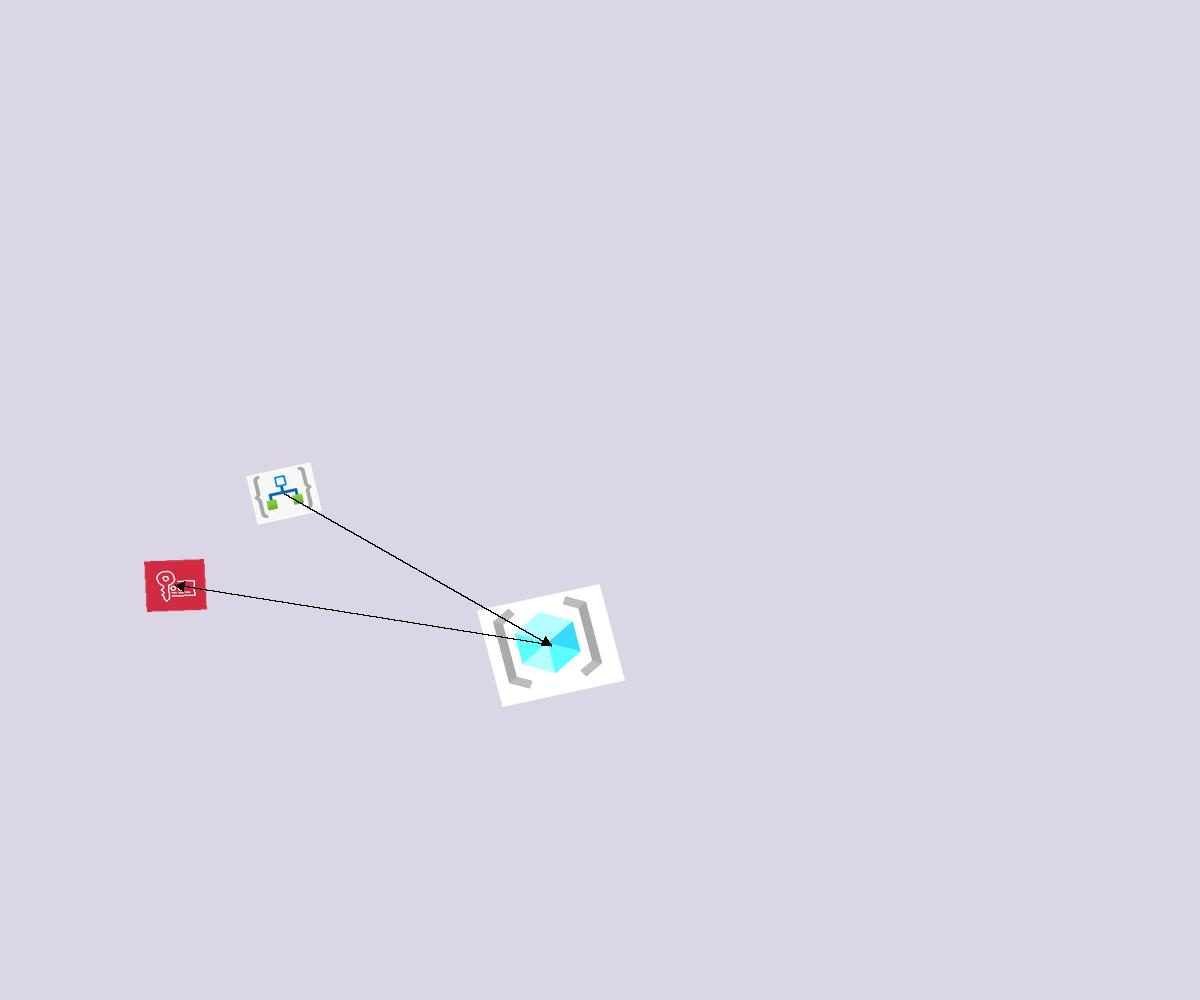AWS-Key-Management-Service: (144, 559, 207, 612)
Azure_integration-204-Logic-Apps: (246, 462, 322, 525)
Azure_resource_group: (477, 584, 625, 707)
